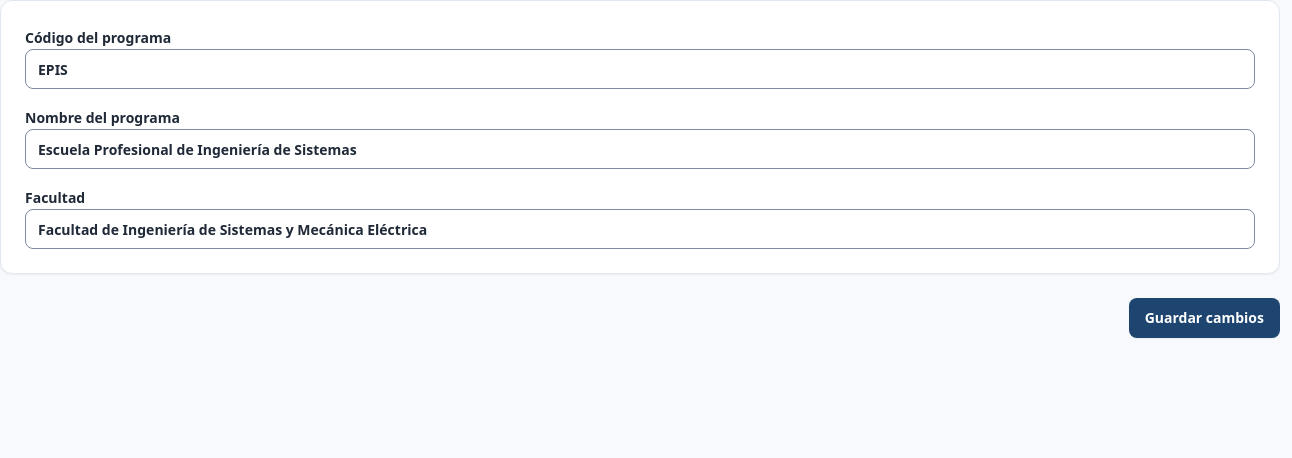
Test: ProgramForm component (HU-009, T-009-17, CA1, CA2) › handles generic server error and displays danger alert
Replace the text in the field labelled "Nombre del programa" with "Nombre Modificado" at (640, 149), box left=25, top=129, right=1255, bottom=169
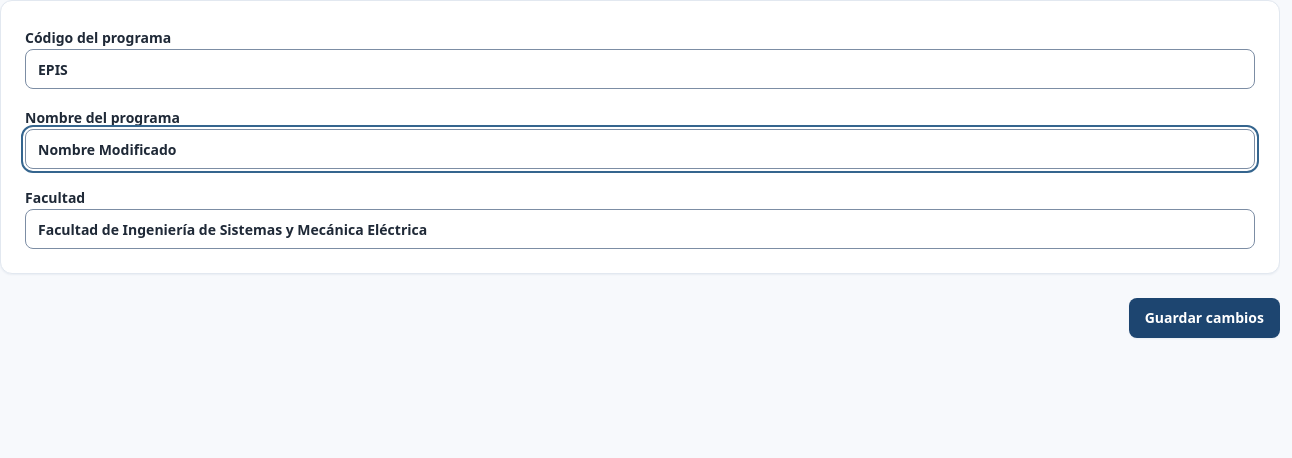
Click the button "Guardar cambios" at (1204, 318), box left=1129, top=298, right=1280, bottom=338
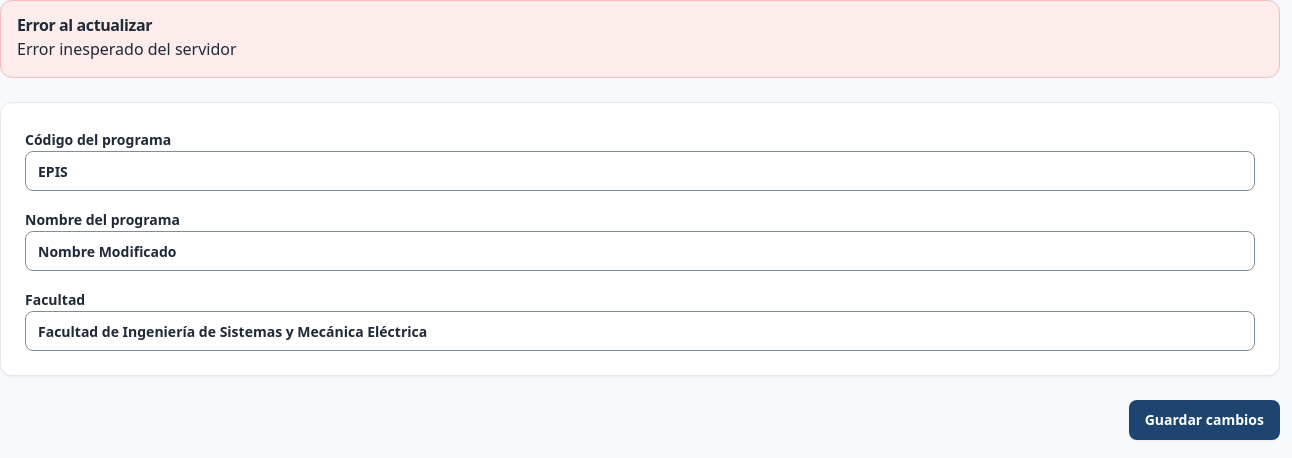
expect the text "Error inesperado del servidor" is shown: met, box left=17, top=38, right=237, bottom=60
